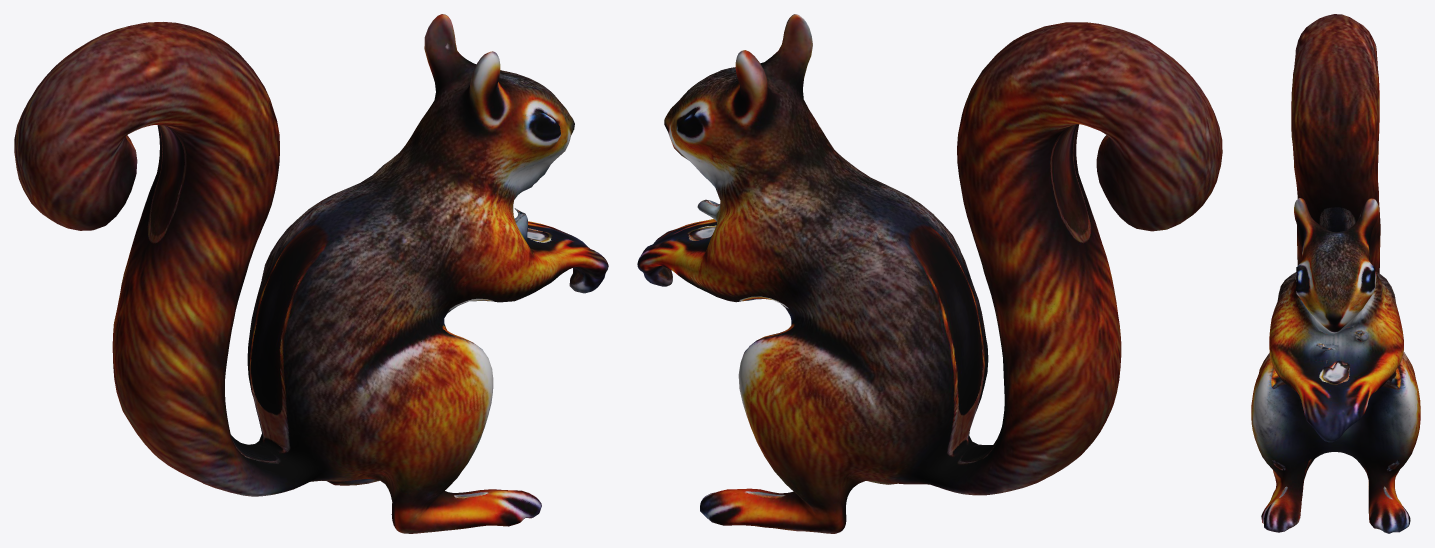
File: d58d8fa77e91_european_squirrel_r.fbx
3 views of the same model, side by side, from view 1: azimuth 30°, elevation 25°; view 2: azimuth 150°, elevation 25°; view 3: azimuth 270°, elevation 25° (orthographic). The views are drawn at different scales.
Parts seen in each view (by area): view 1: mesh; view 2: mesh; view 3: mesh.
Part boxes in pixels (bbox=[...]): mesh: bbox=[14, 14, 608, 533]; mesh: bbox=[637, 14, 1222, 533]; mesh: bbox=[1251, 14, 1420, 533].
Bounding box in the file's own units: 99.94 × 90.21 × 35.87.
